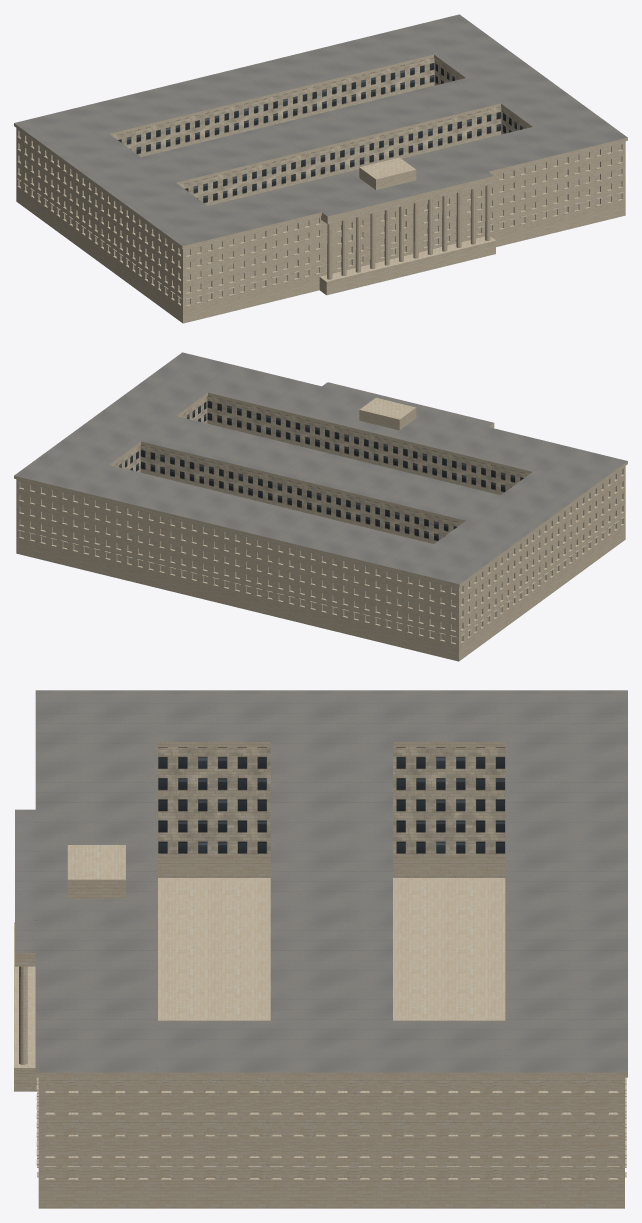
File: bep_main.glb
The picture shows the model from 3 angles, top to bottom: view 1: azimuth 30°, elevation 25°; view 2: azimuth 150°, elevation 25°; view 3: azimuth 270°, elevation 25°; orthographic projection. The views are drawn at different scales.
Parts seen in each view (by area): view 1: bep_main; view 2: bep_main; view 3: bep_main.
Part boxes in pixels (x1,y1,x2,y2): bep_main: [14, 14, 627, 323]; bep_main: [14, 352, 627, 661]; bep_main: [14, 690, 627, 1208].
Size of the model in its own units: 155 by 29.59 by 105.
Materials: 4 (4 with a texture image).
